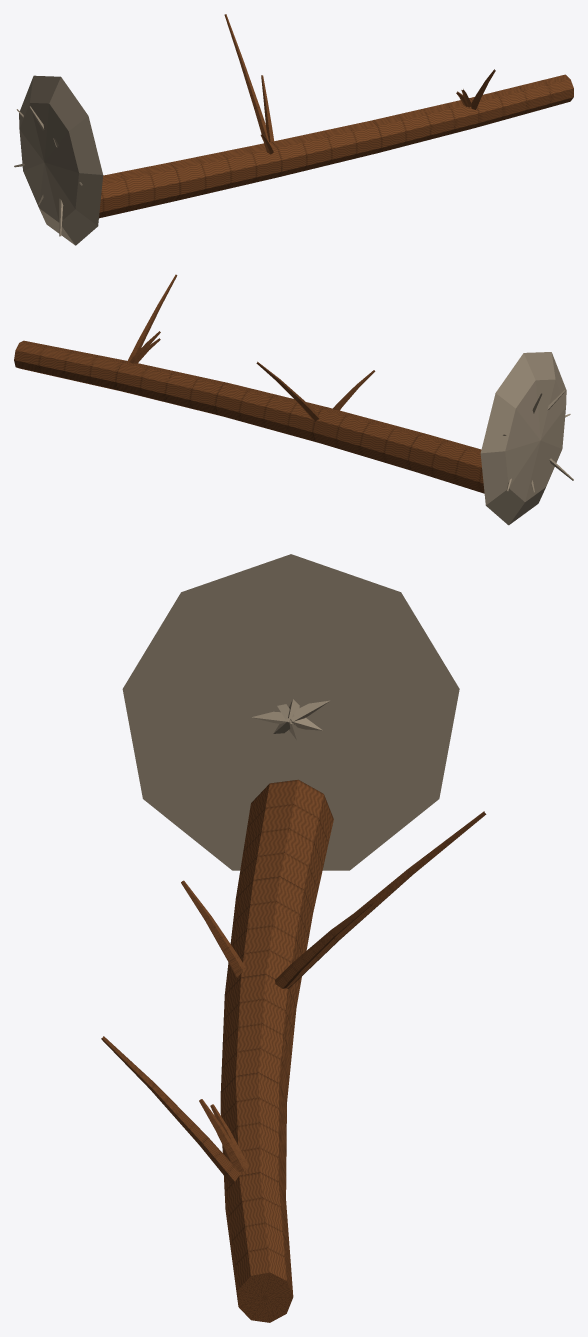
File: fallen-pine.glb
3 renders of one model, top to bottom at view 1: azimuth 30°, elevation 25°; view 2: azimuth 150°, elevation 25°; view 3: azimuth 270°, elevation 25°, orthographic. The views are drawn at different scales.
Visible parts, largest first — view 1: fallen-pine; view 2: fallen-pine; view 3: fallen-pine.
Part boxes in pixels (x1,y1,x2,y2): fallen-pine: (14, 14, 573, 245); fallen-pine: (14, 274, 573, 525); fallen-pine: (101, 554, 486, 1322).
Bounding box in the file's own units: 9.61 × 2.77 × 3.06.
2 materials, 1 textured.
